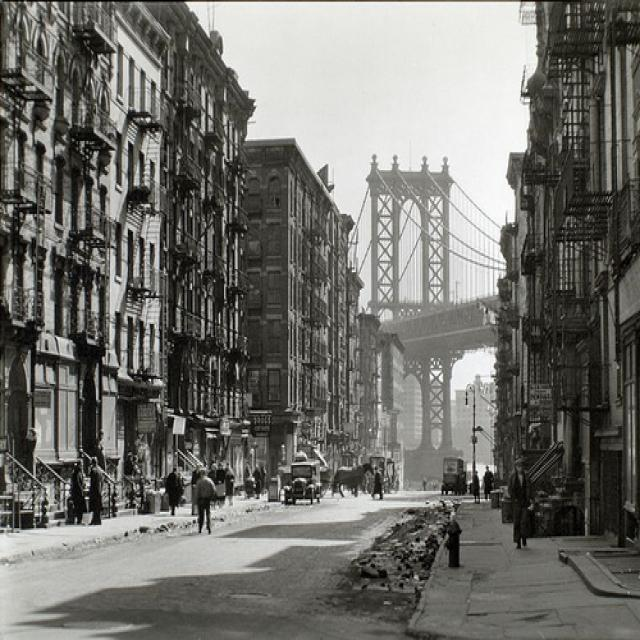Vehicle: (283, 458, 323, 504), (441, 458, 468, 497)
